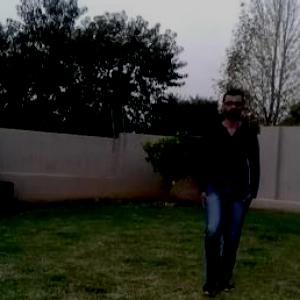follow: (194, 91, 257, 286)
